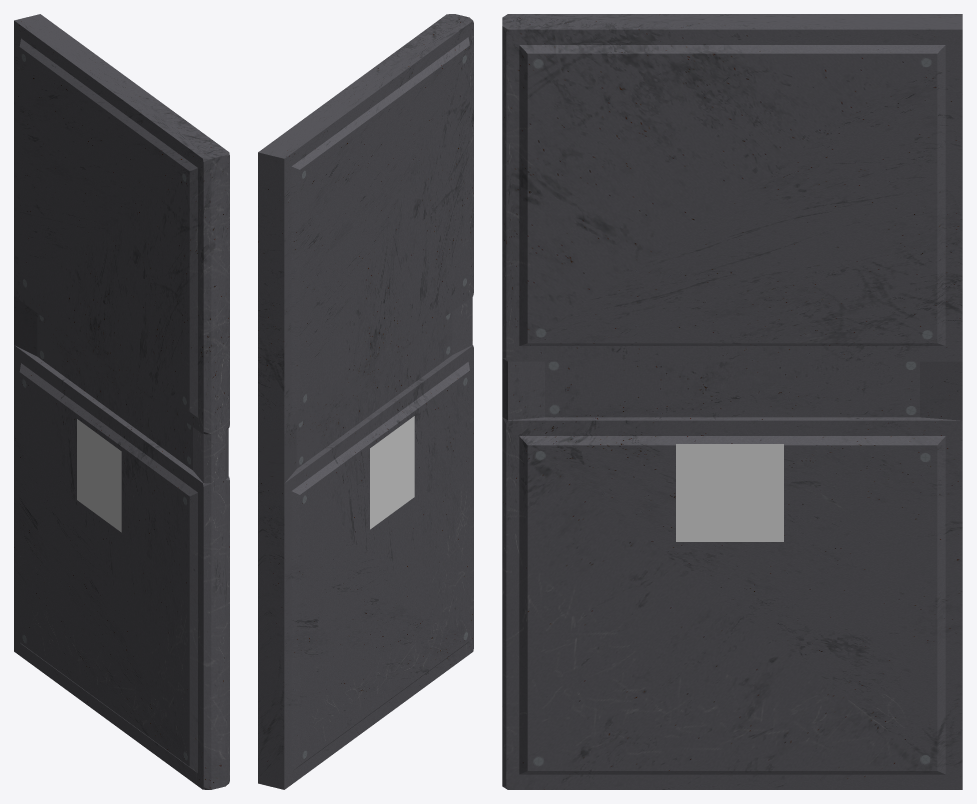
File: starship_door.fbx
The picture shows the model from 3 angles, left to right: view 1: azimuth 30°, elevation 25°; view 2: azimuth 150°, elevation 25°; view 3: azimuth 270°, elevation 25°; orthographic projection. The views are drawn at different scales.
Visible parts, largest first — view 1: starship_door, DoorUI0; view 2: starship_door, DoorUI0; view 3: starship_door, DoorUI1.
Boxes of the visible parts, left/top/right/bottom form: starship_door: left=14, top=14, right=229, bottom=789; DoorUI0: left=77, top=419, right=121, bottom=532; starship_door: left=258, top=14, right=473, bottom=789; DoorUI0: left=370, top=416, right=414, bottom=529; starship_door: left=502, top=14, right=962, bottom=789; DoorUI1: left=676, top=444, right=783, bottom=541.
Size of the model in its own units: 0.106 by 1.47 by 0.8065.
